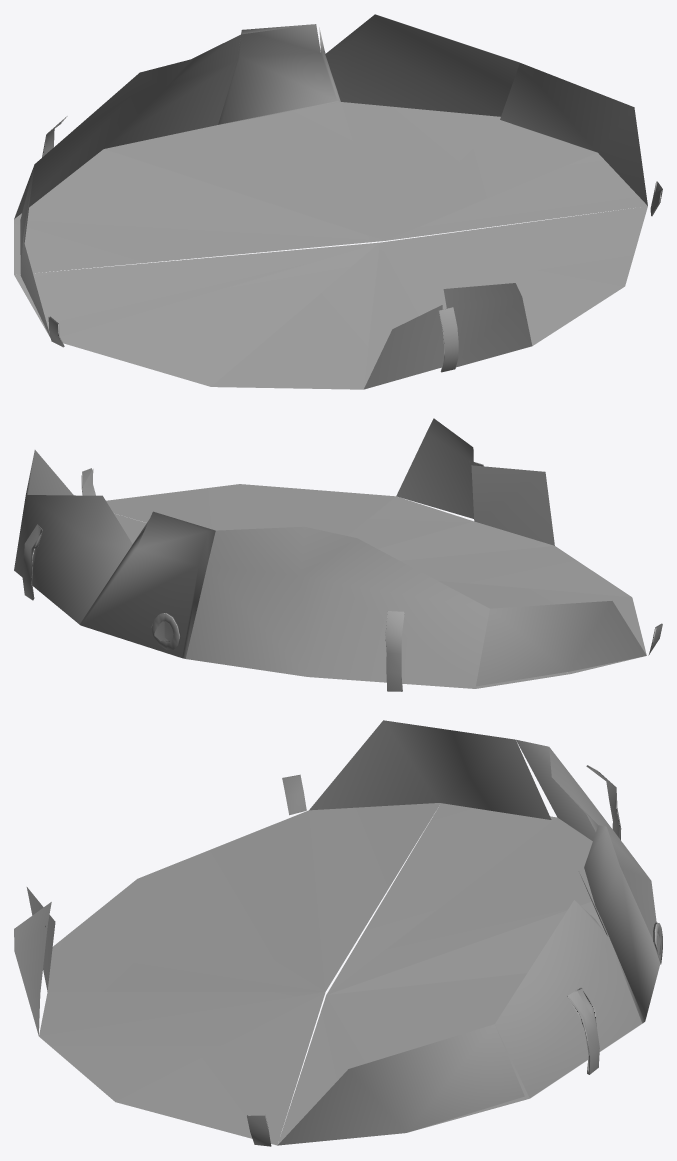
Rendered from hip.glb.
3 views of the same model, one above another, from view 1: azimuth 30°, elevation 25°; view 2: azimuth 150°, elevation 25°; view 3: azimuth 270°, elevation 25° (orthographic). The views are drawn at different scales.
Parts seen in each view (by area): view 1: shorts-grey_HIP; view 2: shorts-grey_HIP; view 3: shorts-grey_HIP.
Part boxes in pixels (x1,y1,x2,y2): shorts-grey_HIP: [14, 14, 662, 389]; shorts-grey_HIP: [14, 418, 662, 691]; shorts-grey_HIP: [14, 720, 662, 1146].
Bounding box in the file's own units: 0.4259 × 0.1111 × 0.3341.
1 material, 1 textured.
